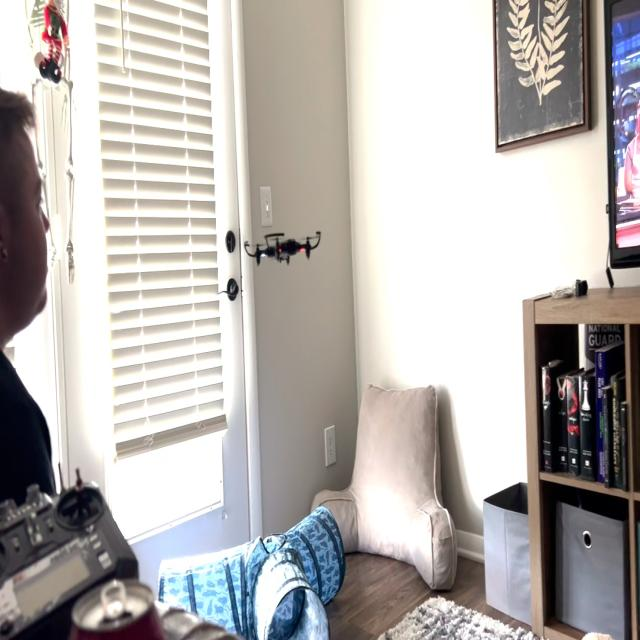drone: (242, 226, 328, 270)
